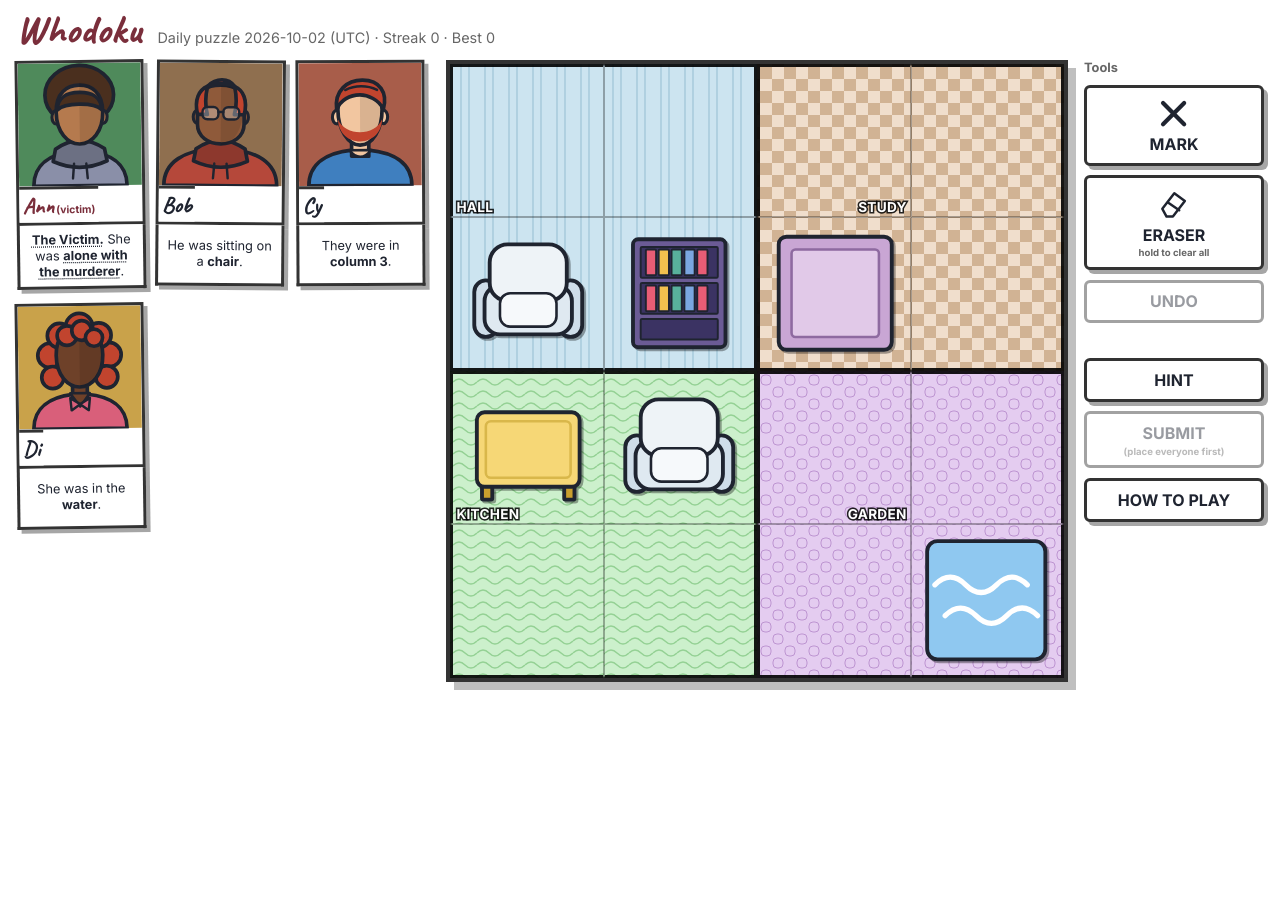
Test: Game hints › repeats the selected clue when hovering a board cell
This screenshot has width=1280, height=900.
Click the button with test id "suspect-1" at (220, 143), box [155, 59, 286, 226]
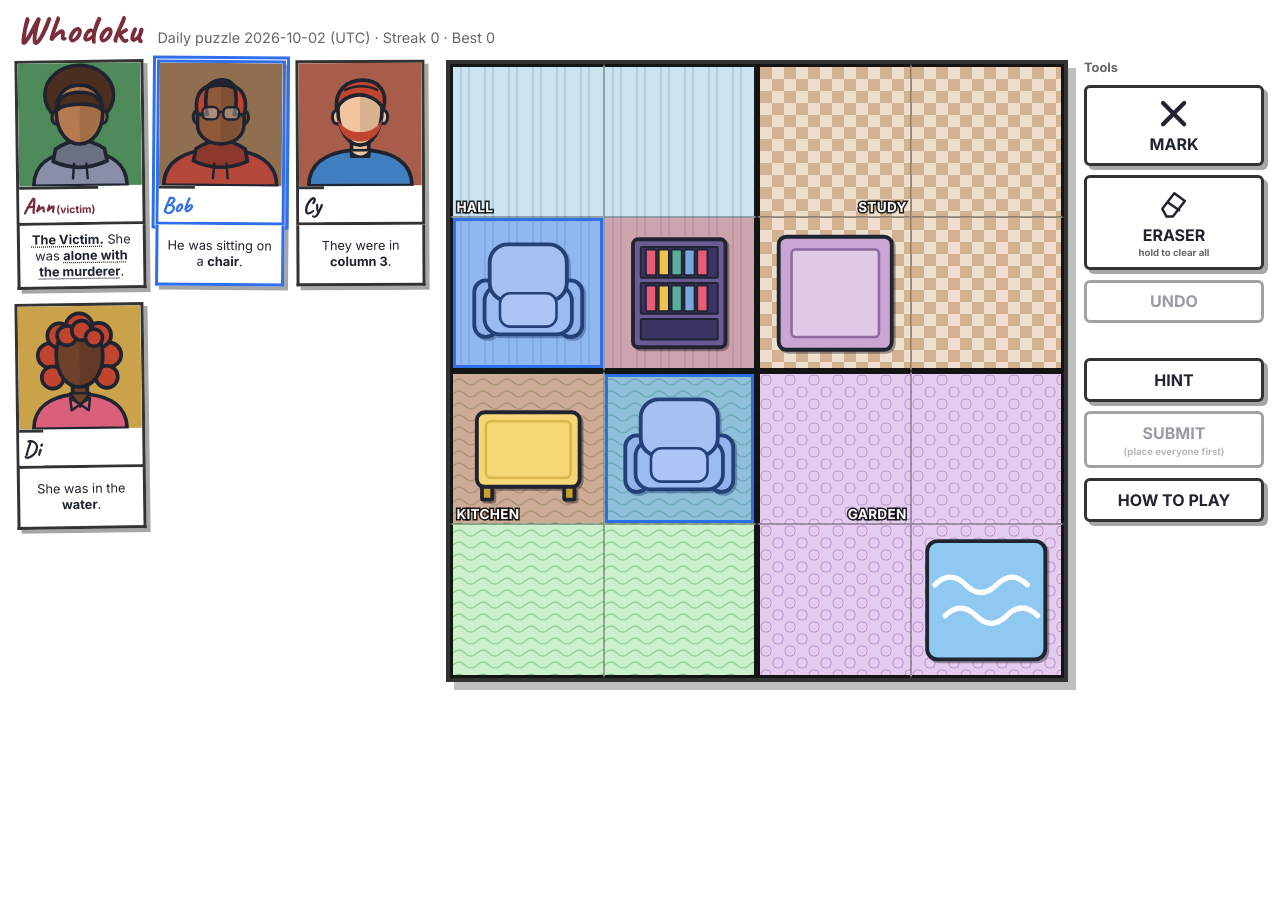
Hover over the cell with test id "cell-2-3" at (987, 448), box [911, 371, 1064, 524]
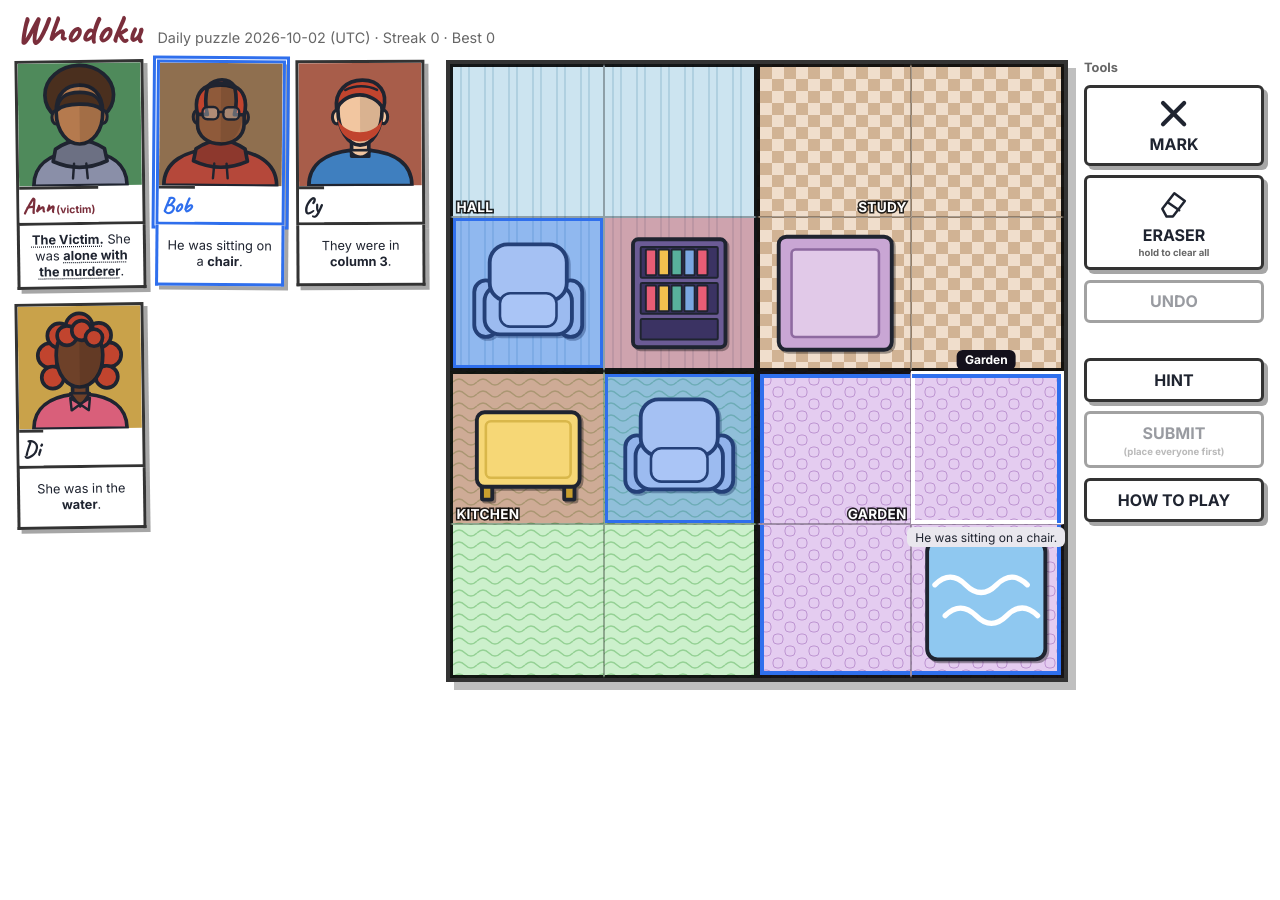
Expected: the text with class "clue" reads "He was sitting on a chair.", [915, 530, 1057, 545]
Expected: the 1st text with class "tip" reads "Garden", [965, 352, 1008, 367]
